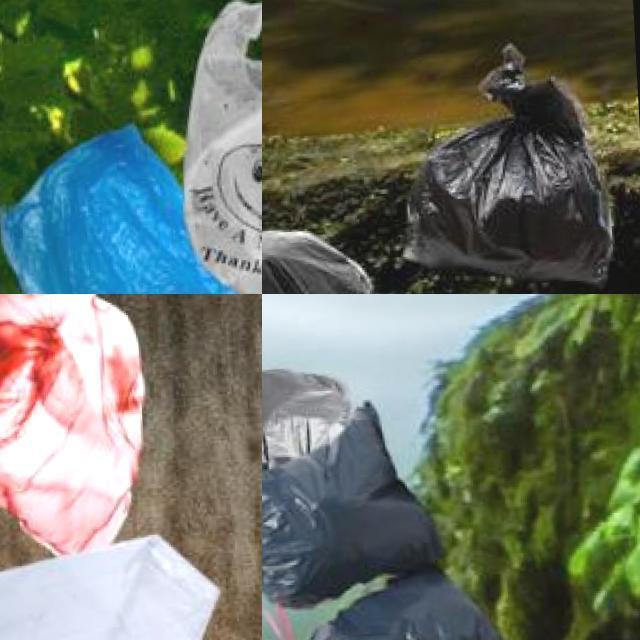waste: (409, 57, 609, 294), (0, 120, 262, 294), (262, 404, 444, 600), (176, 0, 262, 294), (0, 530, 221, 640), (262, 364, 361, 550), (301, 563, 527, 640)
